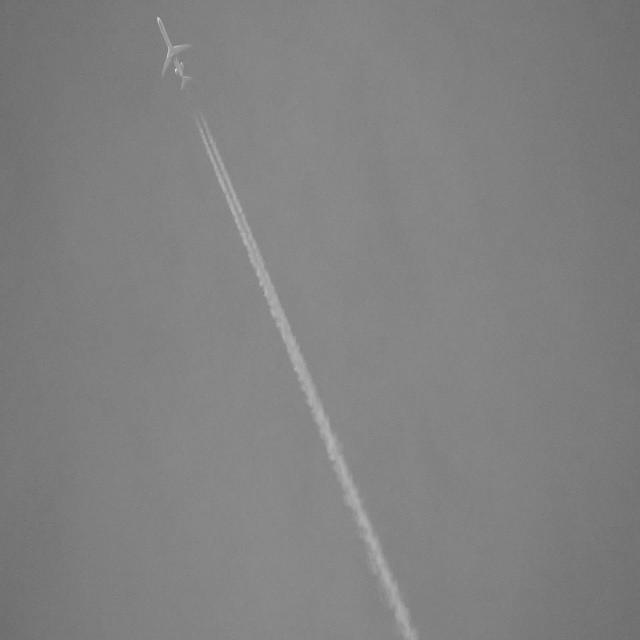aeroplane: (153, 8, 194, 95)
